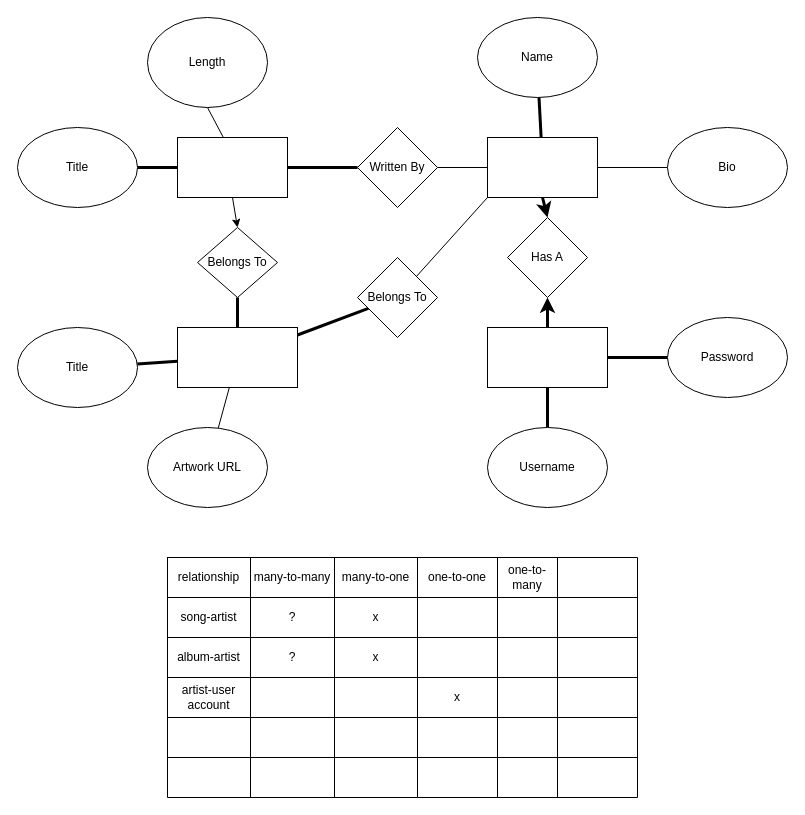
The diagram is 805 pixels wide and 815 high, and some of its shapes have lost their labels. The shapes that lost their labels are listed below. From the top down, each one's centre as x and y in pixels, then its label:
[232,167]: Song
[542,167]: Artist
[237,357]: Album
[547,357]: User Account
